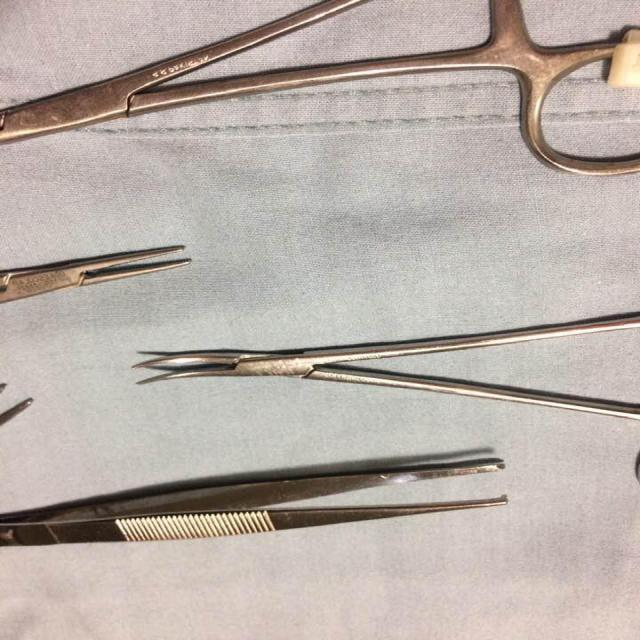Forceps: (1, 452, 513, 550)
Hemostat: (4, 0, 640, 179), (130, 309, 640, 423), (2, 238, 196, 310)
